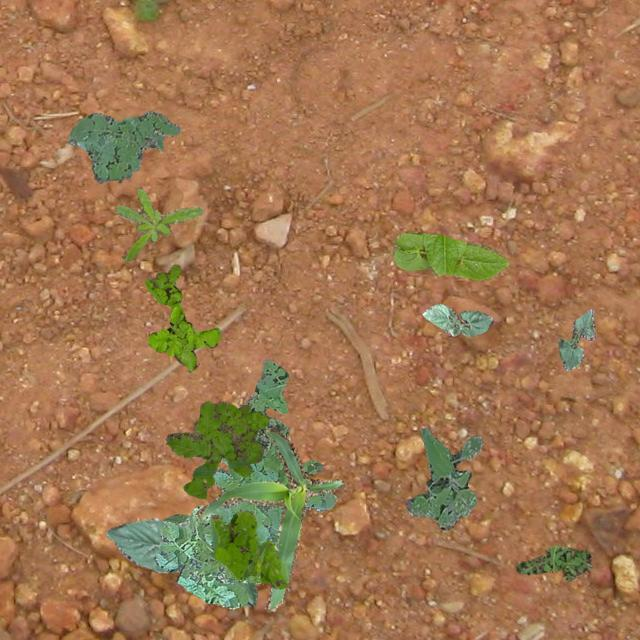crop: (195, 427, 342, 610), (105, 516, 256, 606), (392, 230, 508, 280), (422, 302, 492, 336), (556, 308, 594, 369), (162, 514, 188, 524)
weed: (152, 358, 336, 608), (165, 400, 268, 498), (66, 110, 180, 182), (143, 264, 220, 370), (404, 426, 482, 528), (114, 188, 202, 260), (210, 510, 286, 588), (514, 544, 590, 580)
